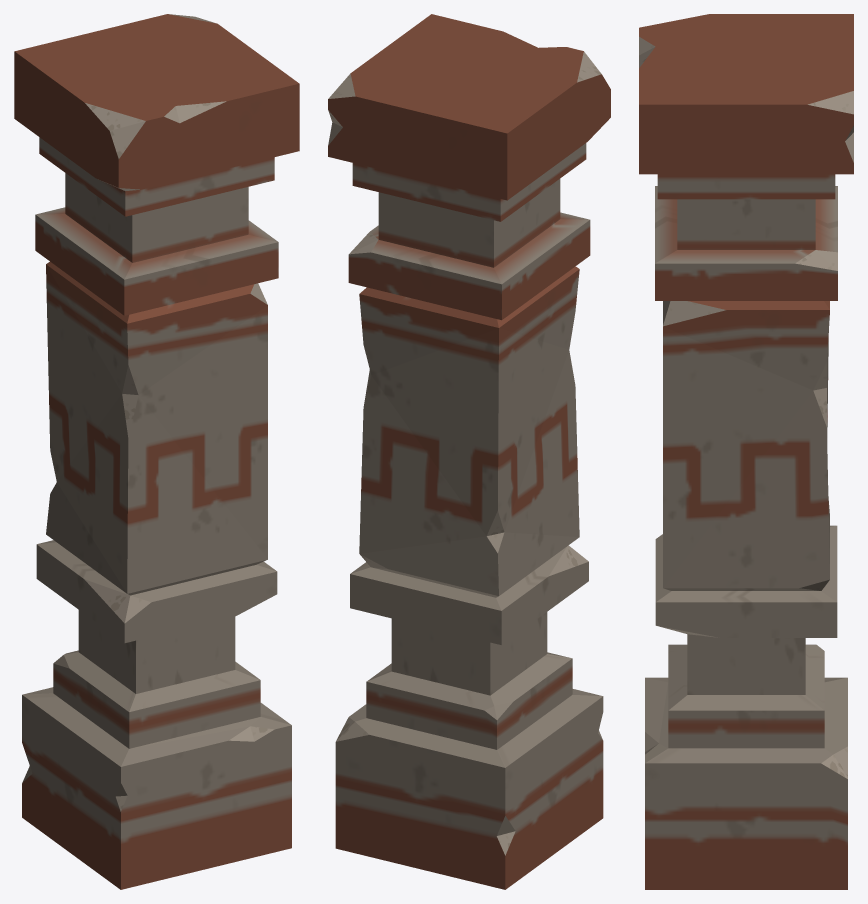
File: pit_ruin_pillar.gltf
3 views of the same model, side by side, from view 1: azimuth 30°, elevation 25°; view 2: azimuth 150°, elevation 25°; view 3: azimuth 270°, elevation 25° (orthographic). The views are drawn at different scales.
Parts seen in each view (by area): view 1: pit_ruin_pillar; view 2: pit_ruin_pillar; view 3: pit_ruin_pillar.
Boxes of the visible parts, x1=… form: pit_ruin_pillar: x1=14, y1=14, x2=299, y2=889; pit_ruin_pillar: x1=328, y1=14, x2=610, y2=889; pit_ruin_pillar: x1=639, y1=14, x2=853, y2=889.
Size of the model in its own units: 0.8114 by 3.28 by 0.8114.
Materials: 1 (1 with a texture image).
